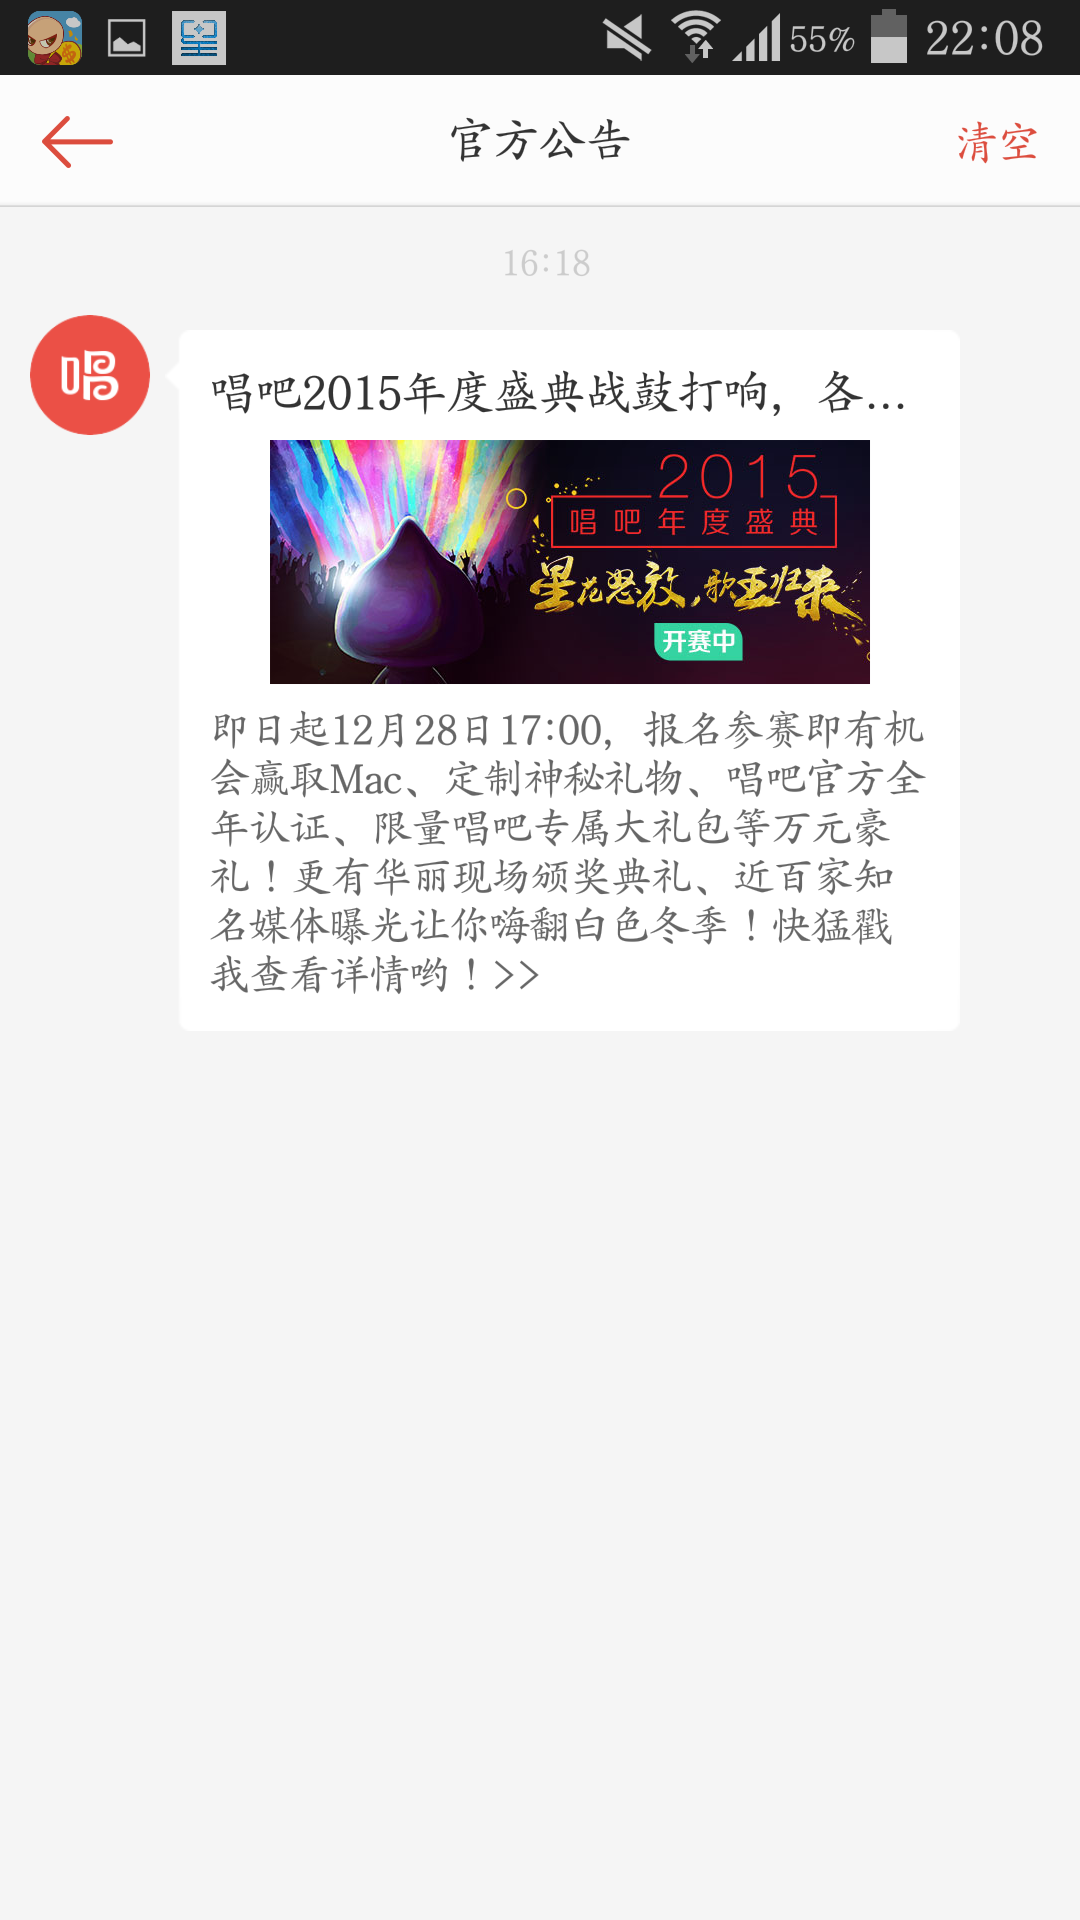imgview: (252, 429, 902, 676)
textview: (215, 691, 938, 1021)
